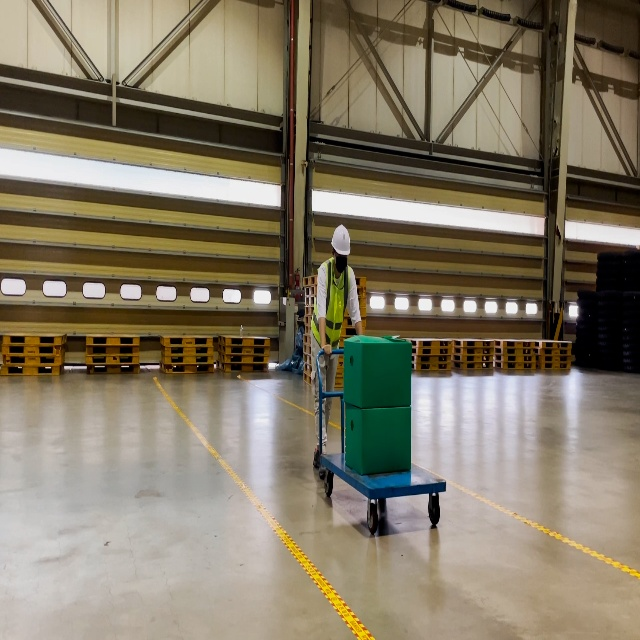Box: (343, 335, 412, 408), (345, 401, 411, 476)
Worker: (310, 225, 363, 480)
